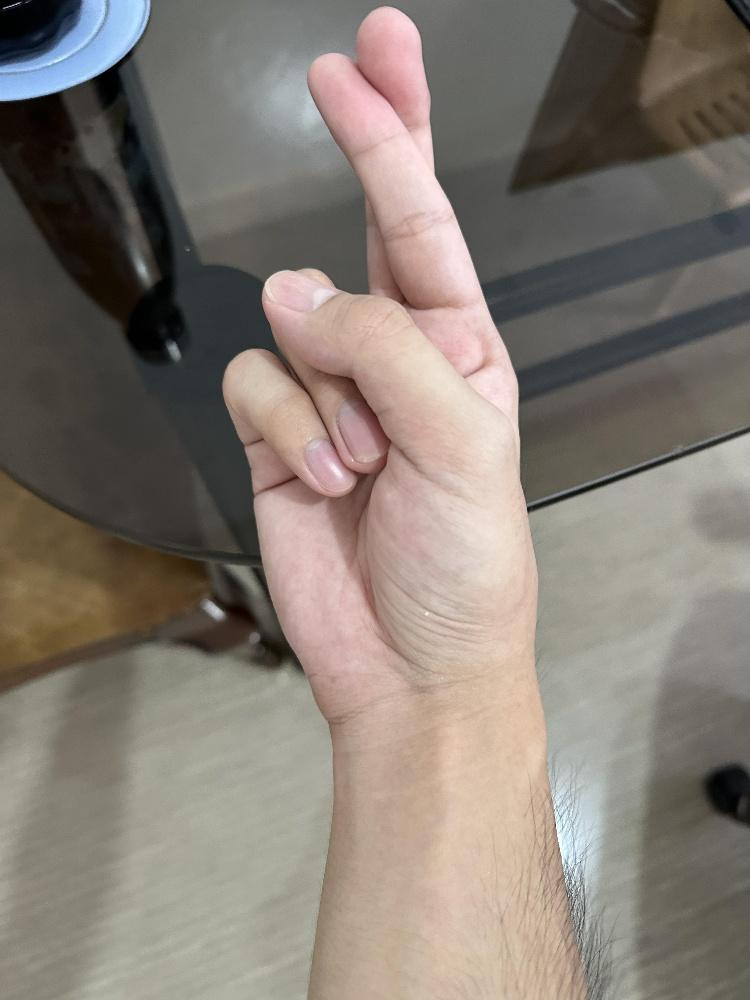r: (218, 2, 542, 725)
